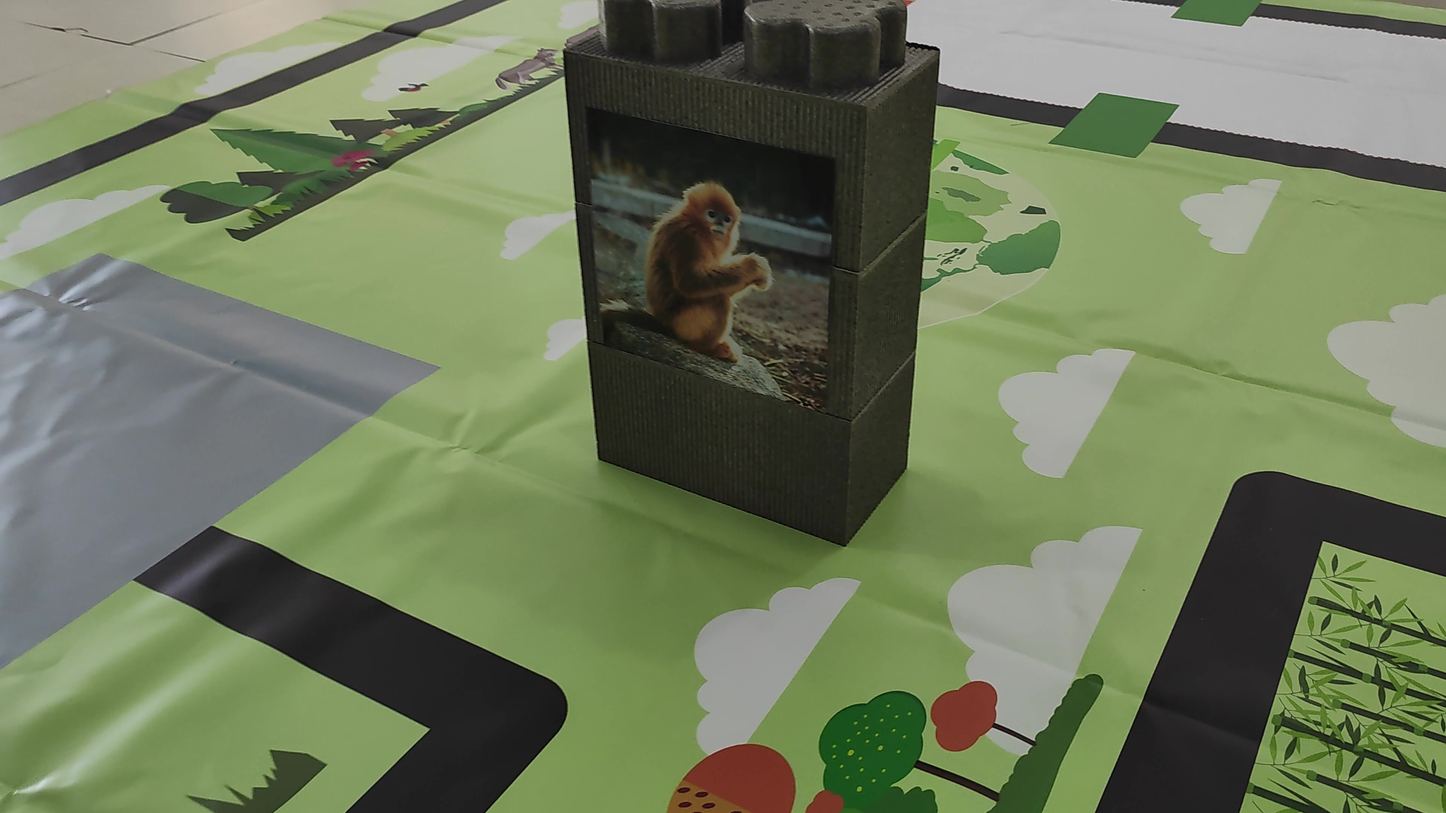monkey: (616, 149, 811, 387)
